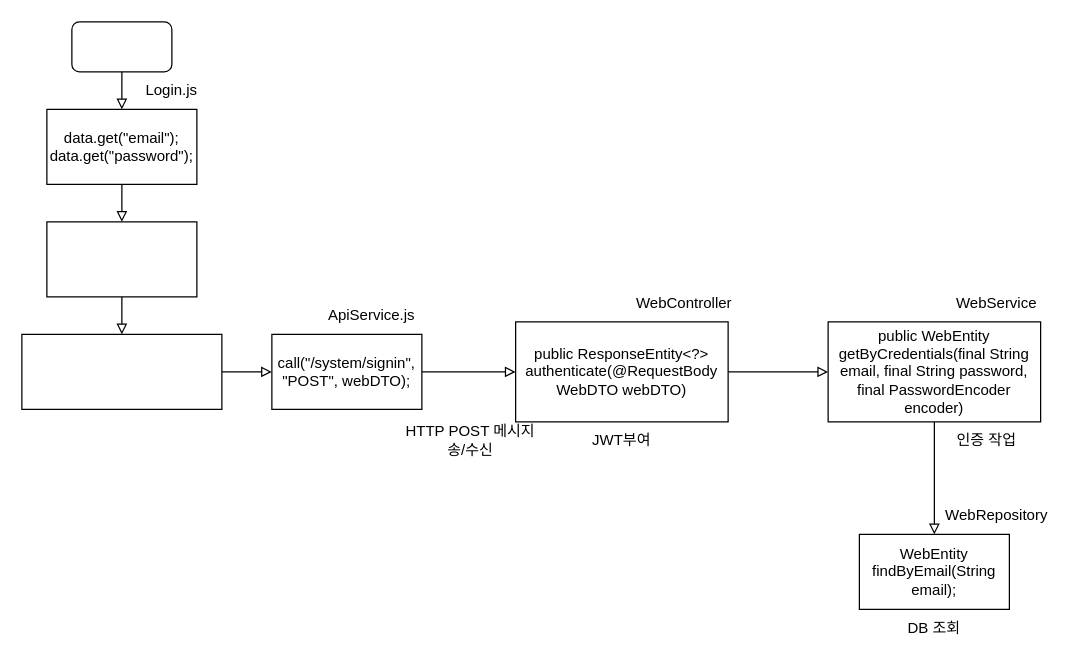
This 1078x669 diagram has some shape labels left out. Each missing label, with the centre of its shape:
handleSubmit(event);: point 121,259
signin({ email: email, password: password });: point 121,371
start: point 121,46
